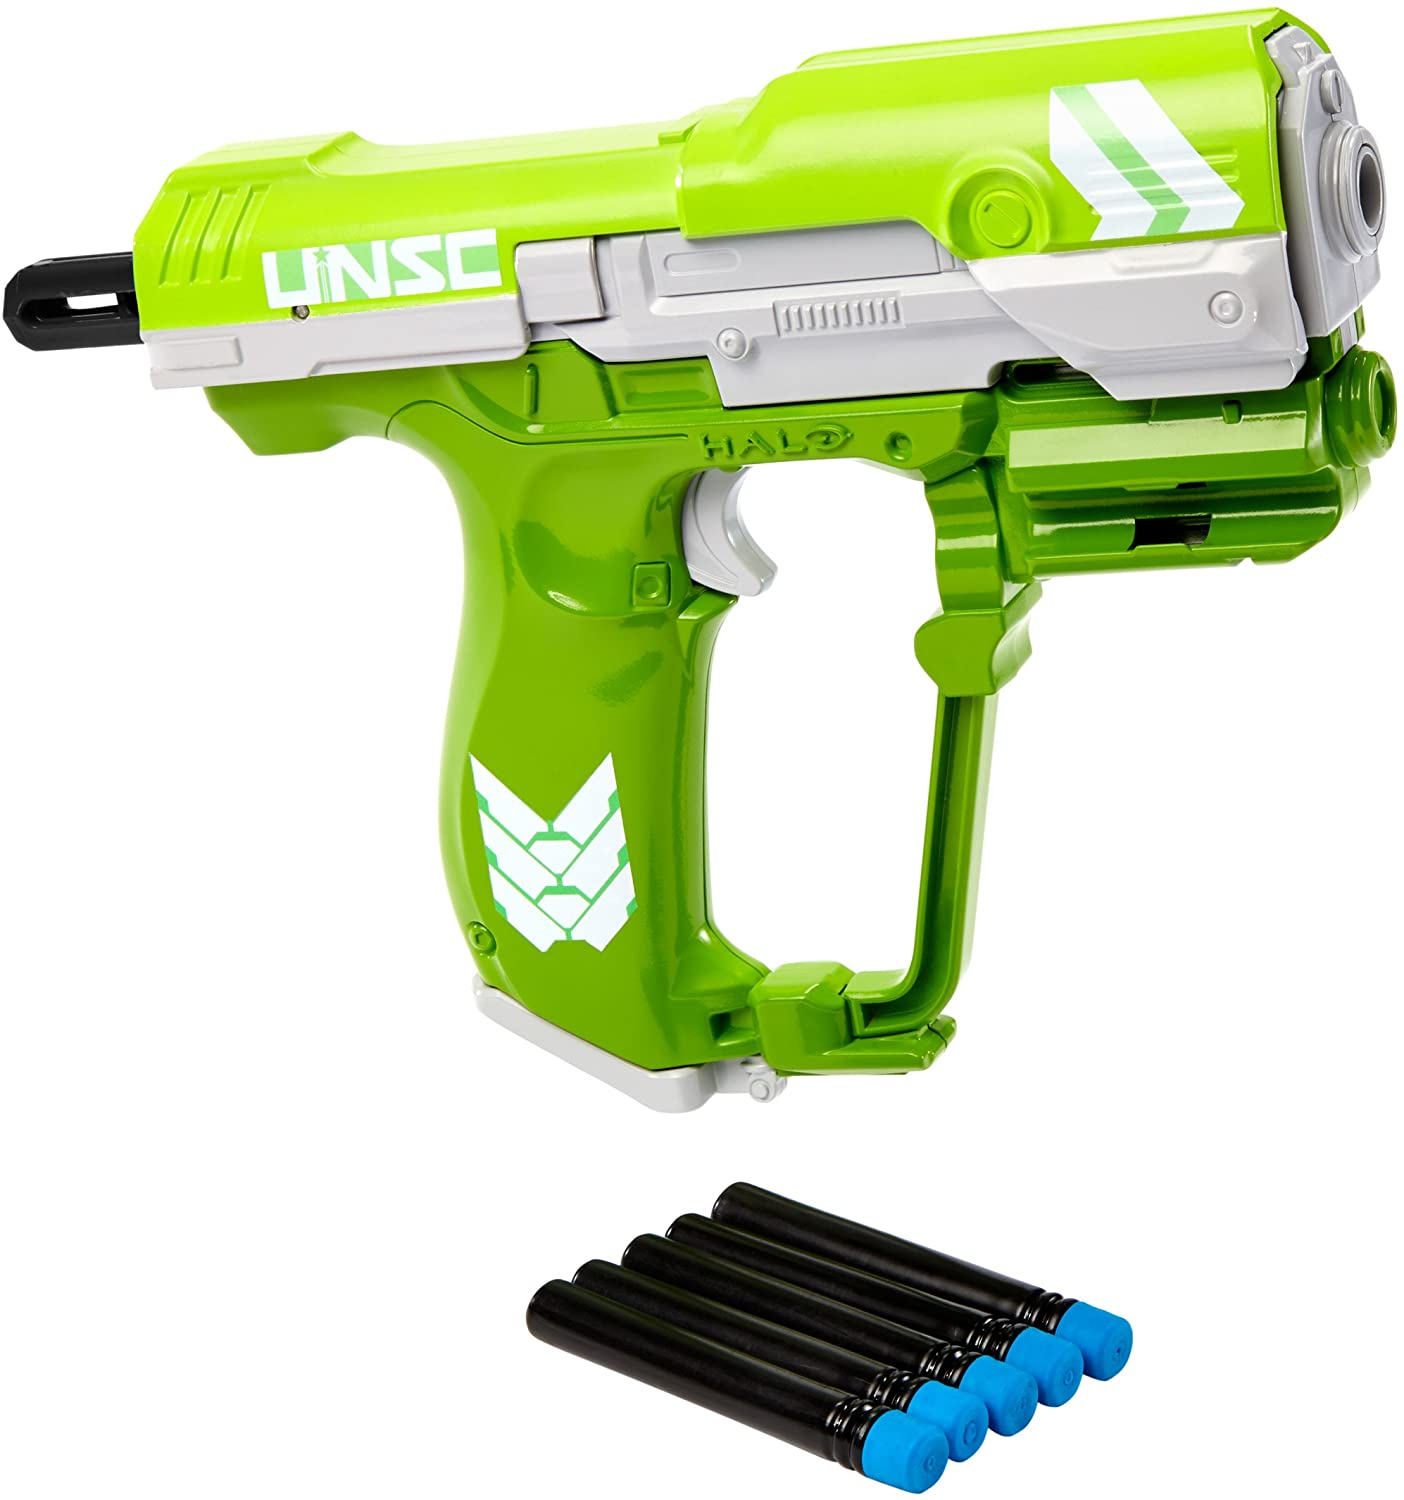Arma Falsa: (9, 7, 1404, 1131)
